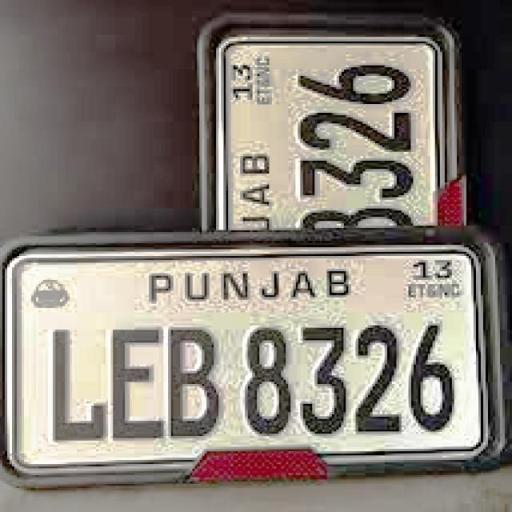2: (351, 326, 400, 441)
3: (300, 326, 348, 438)
6: (406, 328, 462, 434)
8: (240, 331, 297, 436)
B: (166, 320, 220, 444)
E: (109, 320, 163, 444)
L: (42, 328, 106, 440)
